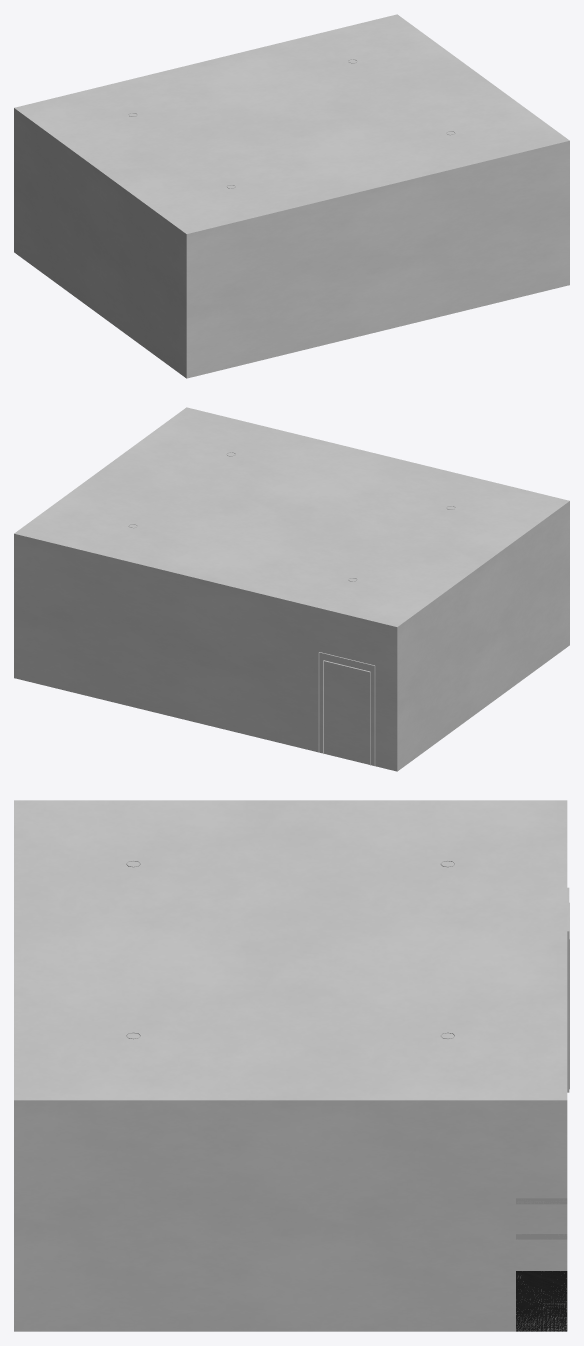
The model's file is bar.fbx.
3 renders of one model, top to bottom at view 1: azimuth 30°, elevation 25°; view 2: azimuth 150°, elevation 25°; view 3: azimuth 270°, elevation 25°, orthographic. The views are drawn at different scales.
Visible parts, largest first — view 1: Object001, Box001; view 2: Object001, Box001, HOSIPITAL037; view 3: Box001, Object001, Box002.
Part boxes in pixels (x1,y1,x2,y2): Object001: (14,108,569,378); Box001: (14,14,569,233); Object001: (14,501,569,771); Box001: (14,407,569,626); HOSIPITAL037: (318,652,375,766); Box001: (14,800,567,1100); Object001: (14,1100,567,1331); Box002: (516,1271,567,1331).
Size of the model in its own units: 1111 by 402 by 871.
